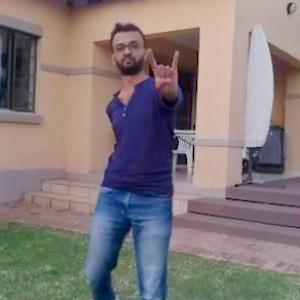takeoff-hand: (144, 41, 187, 100)
